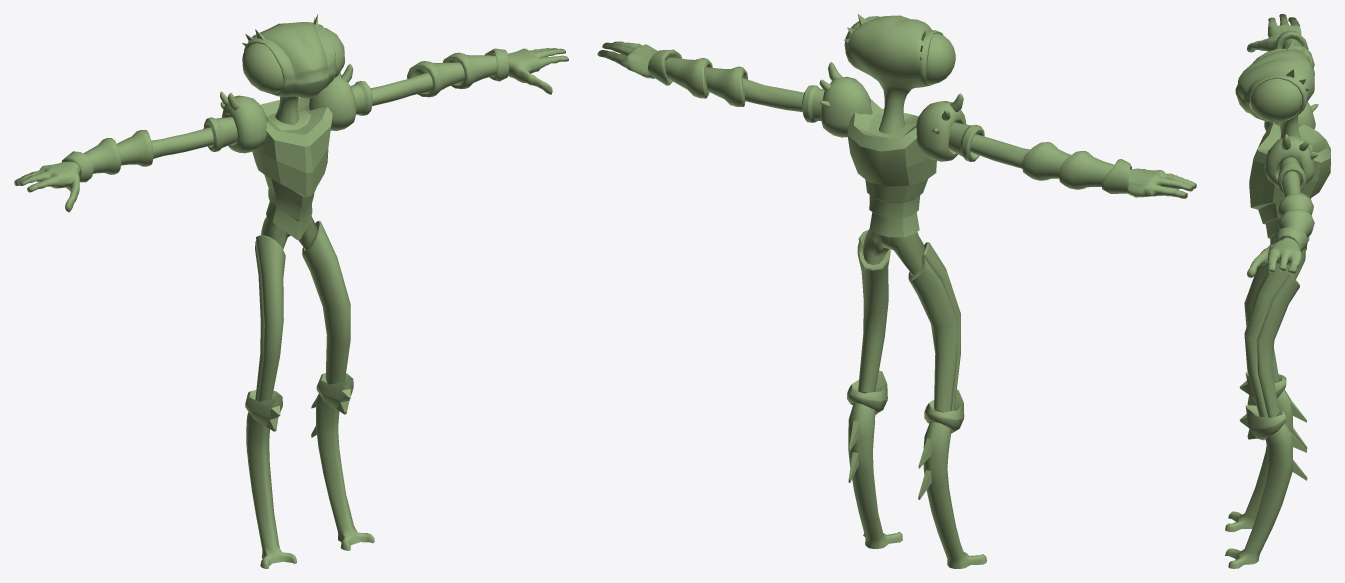
Rendered from Ranged-Bugman-mesh-V2.fbx.
3 renders of one model, left to right at view 1: azimuth 30°, elevation 25°; view 2: azimuth 150°, elevation 25°; view 3: azimuth 270°, elevation 25°, orthographic. The views are drawn at different scales.
Visible parts, largest first — view 1: Ranged_bug_fixes_V1; view 2: Ranged_bug_fixes_V1; view 3: Ranged_bug_fixes_V1.
Boxes of the visible parts, box(x1,y1,x2,y2) form: Ranged_bug_fixes_V1: box(14, 14, 568, 568); Ranged_bug_fixes_V1: box(597, 14, 1196, 568); Ranged_bug_fixes_V1: box(1225, 14, 1330, 568).
Size of the model in its own units: 9.49 by 8.45 by 1.66.
